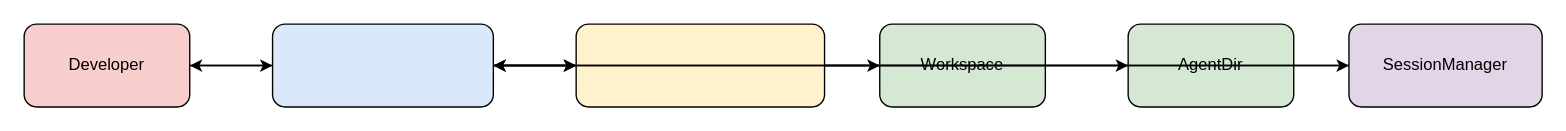
This 1566x131 diagram has some shape labels left out. Each missing label, with the centre of its shape:
"Agent Orchestrator" goes at (382,65).
"DefaultResourceLoader" goes at (700,65).
